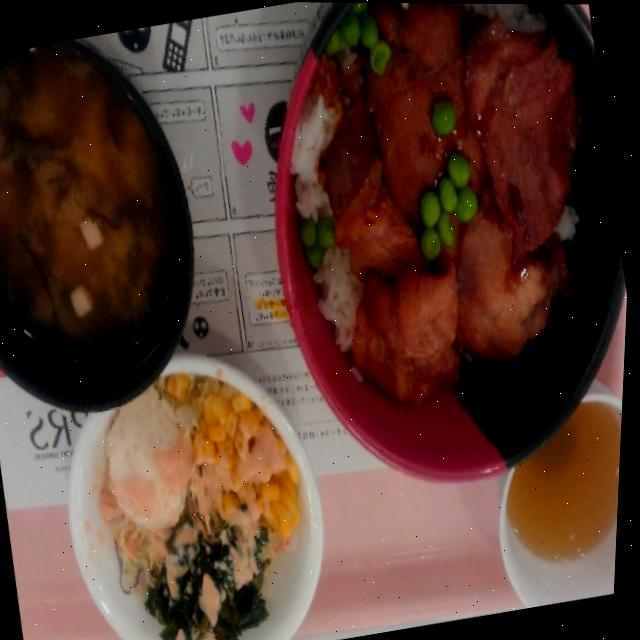汤锅炖物: (0, 22, 232, 440)
蔬菜料理: (92, 376, 225, 550)
